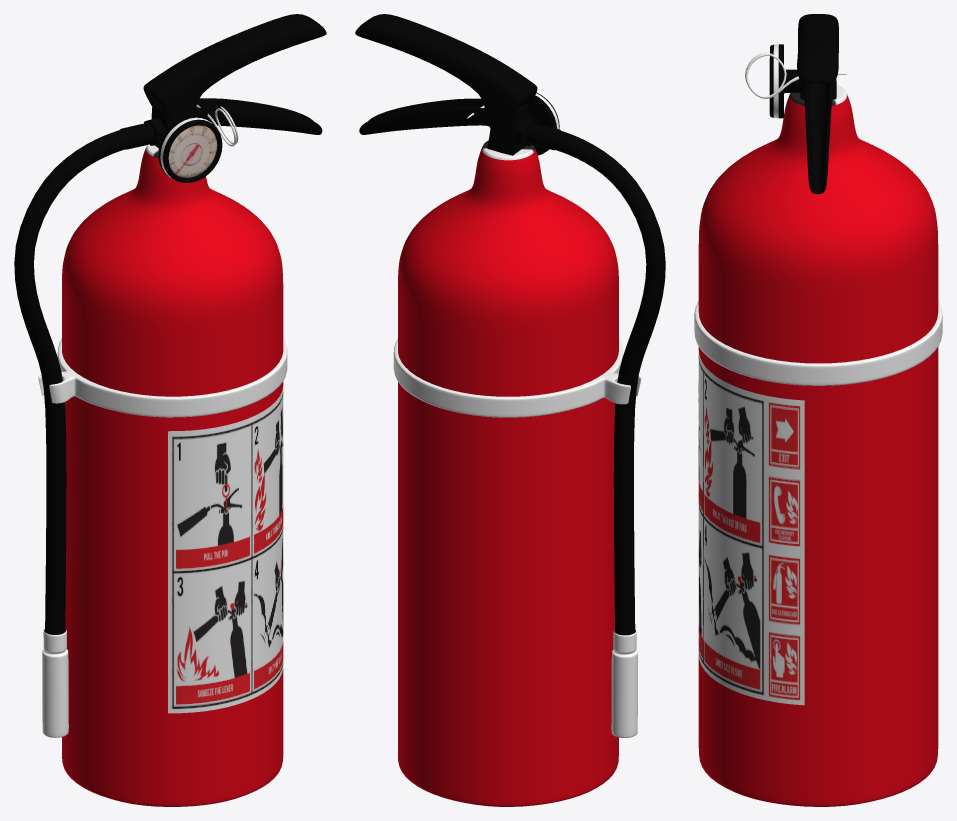
The model's file is fire-extinguisher.fbx.
The picture shows the model from 3 angles, left to right: view 1: azimuth 30°, elevation 25°; view 2: azimuth 150°, elevation 25°; view 3: azimuth 270°, elevation 25°; orthographic projection. The views are drawn at different scales.
Parts seen in each view (by area): view 1: 10285_Fire Extinguisher_v3_iterations-2.001; view 2: 10285_Fire Extinguisher_v3_iterations-2.001; view 3: 10285_Fire Extinguisher_v3_iterations-2.001.
Part boxes in pixels (x1,y1,x2,y2): 10285_Fire Extinguisher_v3_iterations-2.001: (14, 14, 326, 806); 10285_Fire Extinguisher_v3_iterations-2.001: (355, 14, 665, 806); 10285_Fire Extinguisher_v3_iterations-2.001: (694, 14, 942, 806).
Size of the model in its own units: 60.09 by 134 by 39.16.
5 materials, 2 textured.
